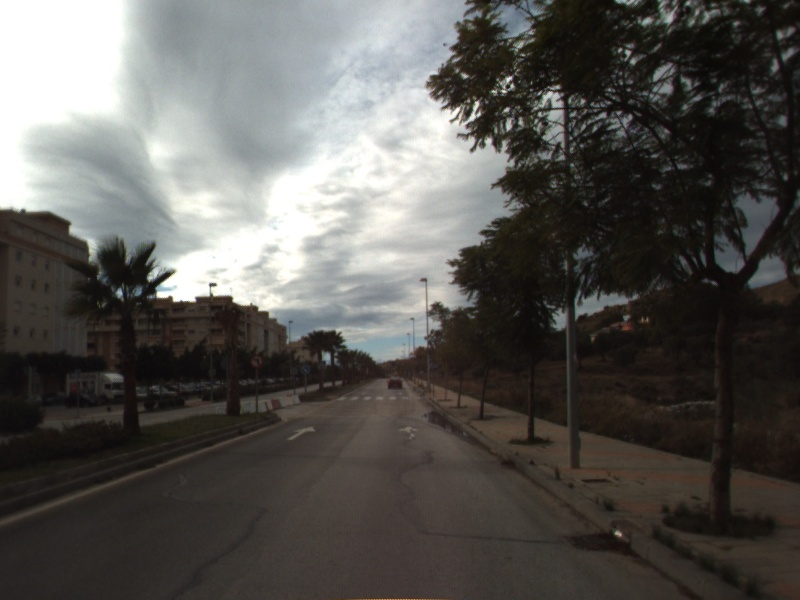STRAIGHT: (285, 425, 317, 442), (397, 423, 421, 442)
